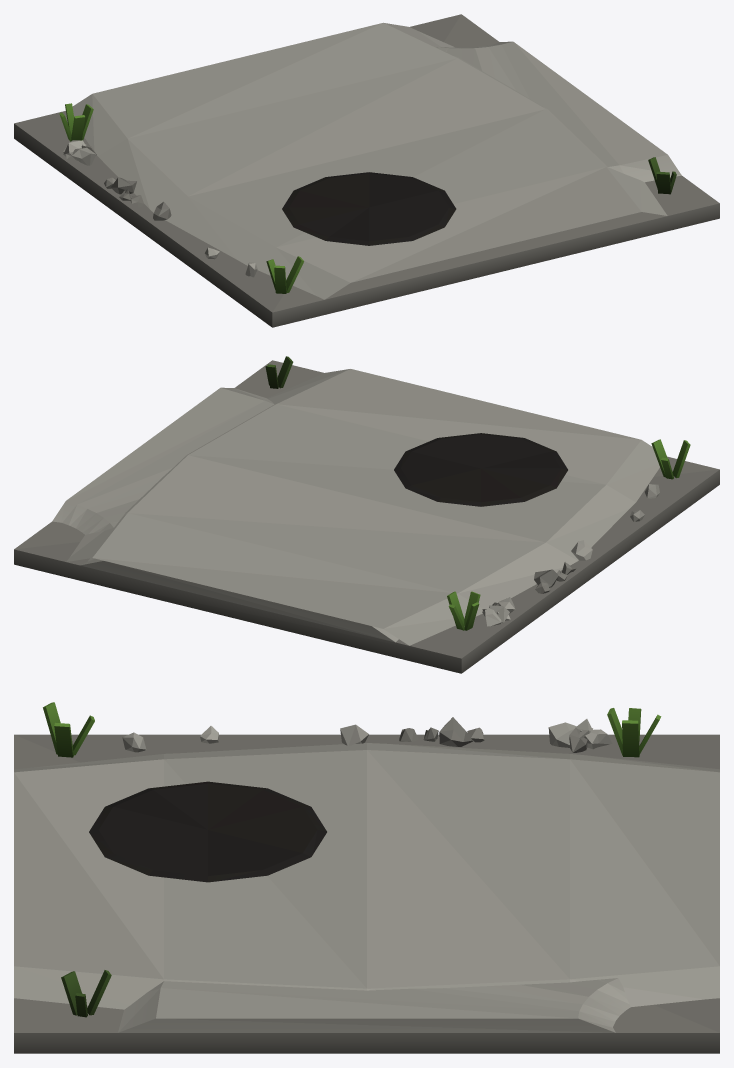
Rendered from ballast-junction-tile.glb.
3 renders of one model, top to bottom at view 1: azimuth 30°, elevation 25°; view 2: azimuth 150°, elevation 25°; view 3: azimuth 270°, elevation 25°, orthographic. The views are drawn at different scales.
Parts seen in each view (by area): view 1: ballast_junction_tile; view 2: ballast_junction_tile; view 3: ballast_junction_tile.
Part boxes in pixels (x1,y1,x2,y2): ballast_junction_tile: [14, 14, 719, 327]; ballast_junction_tile: [14, 356, 719, 673]; ballast_junction_tile: [14, 702, 719, 1053].
Bounding box in the file's own units: 4 × 0.4029 × 4.
